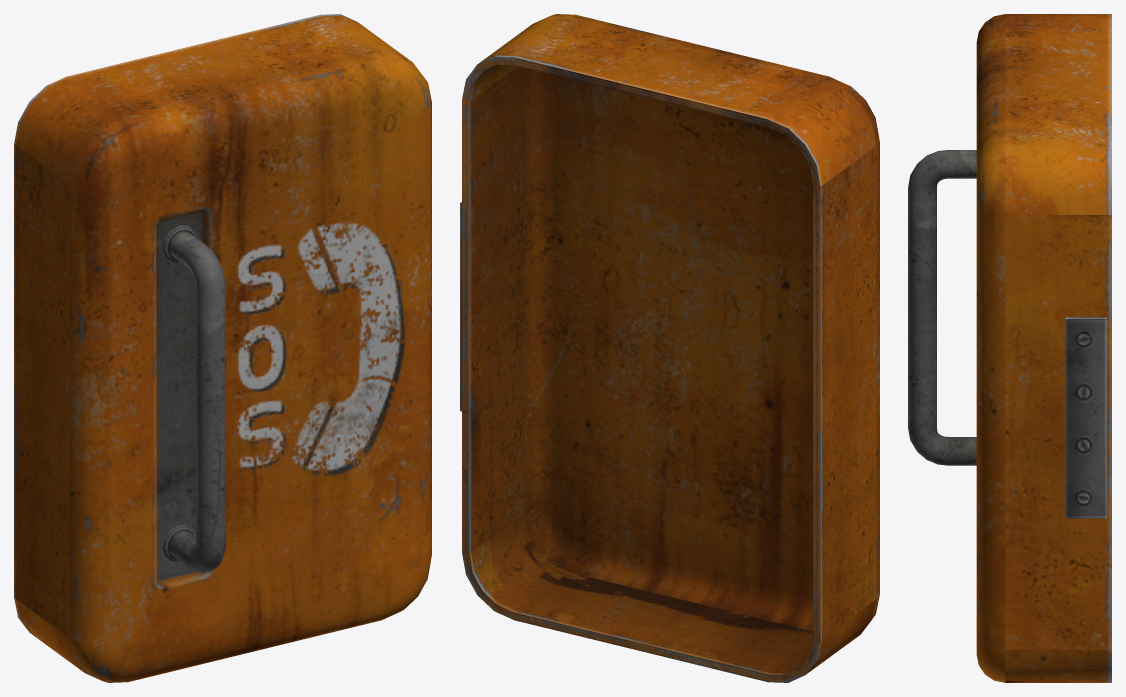
File: emergency_intercom_door.dae
The picture shows the model from 3 angles, left to right: view 1: azimuth 30°, elevation 25°; view 2: azimuth 150°, elevation 25°; view 3: azimuth 270°, elevation 25°; orthographic projection. The views are drawn at different scales.
Visible parts, largest first — view 1: door; view 2: door; view 3: door.
Boxes of the visible parts, bbox=[...] form: door: bbox=[14, 14, 431, 682]; door: bbox=[460, 14, 879, 682]; door: bbox=[908, 14, 1111, 682].
Bounding box in the file's own units: 0.4103 × 0.6079 × 0.2081.
